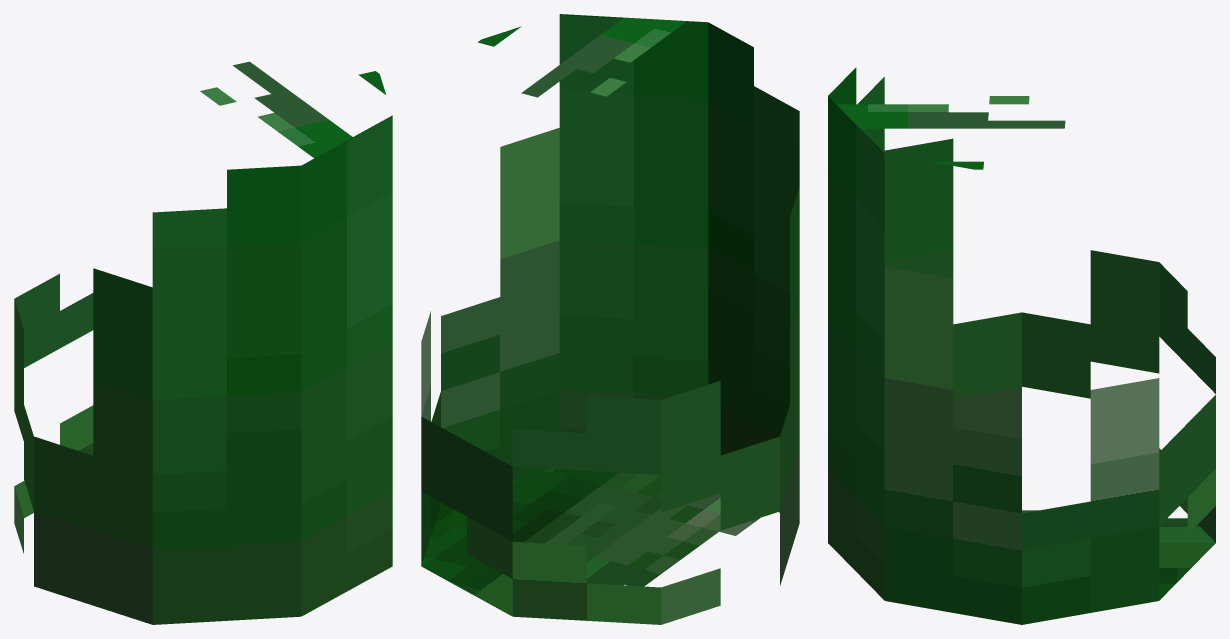
File: pCylinderShape2.dae
3 views of the same model, side by side, from view 1: azimuth 30°, elevation 25°; view 2: azimuth 150°, elevation 25°; view 3: azimuth 270°, elevation 25° (orthographic).
Visible parts, largest first — view 1: pCylinder2; view 2: pCylinder2; view 3: pCylinder2.
Boxes of the visible parts, bbox=[...] form: pCylinder2: bbox=[14, 61, 392, 624]; pCylinder2: bbox=[421, 14, 799, 624]; pCylinder2: bbox=[828, 67, 1215, 624].
Bounding box in the file's own units: 4.29 × 5.45 × 4.29.
Materials: 1 (1 with a texture image).
